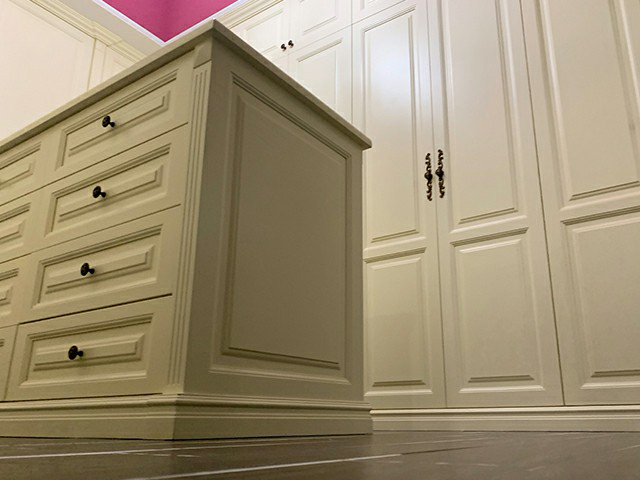cabinet: (1, 17, 374, 440), (363, 1, 640, 430)
